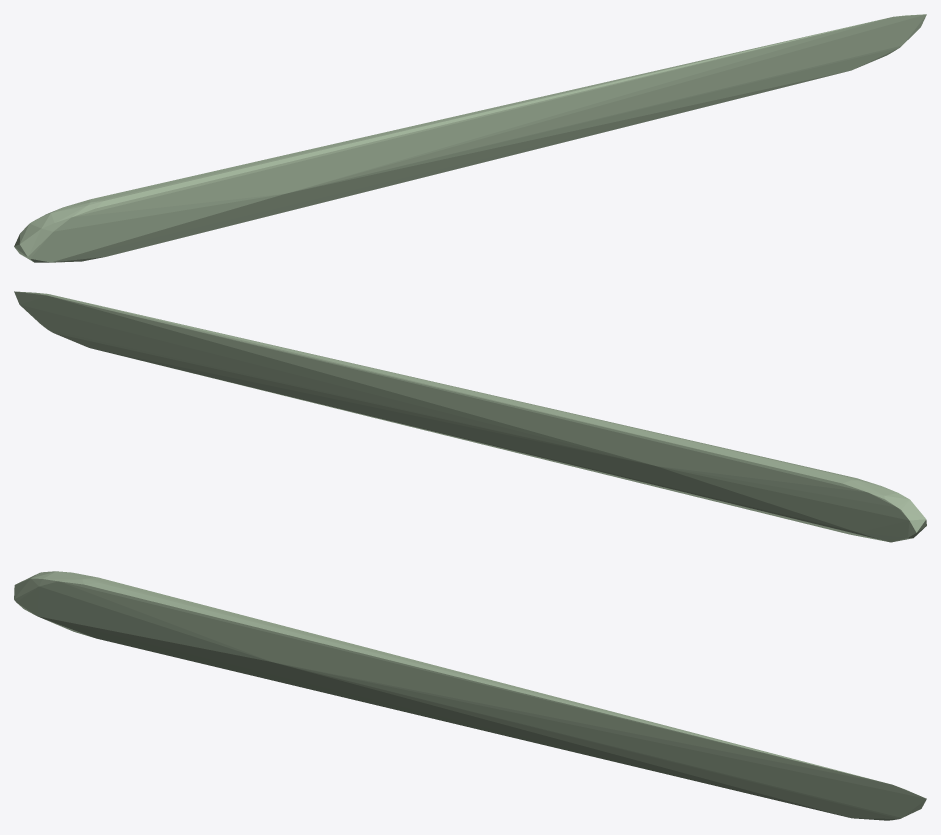
The model's file is instrument_knife_a01.glb.
3 views of the same model, one above another, from view 1: azimuth 30°, elevation 25°; view 2: azimuth 150°, elevation 25°; view 3: azimuth 330°, elevation 25° (orthographic).
Visible parts, largest first — view 1: geometry_0; view 2: geometry_0; view 3: geometry_0.
Boxes of the visible parts, bbox=[...] form: geometry_0: bbox=[14, 14, 926, 262]; geometry_0: bbox=[14, 291, 926, 542]; geometry_0: bbox=[14, 571, 926, 820].
Bounding box in the file's own units: 0.4772 × 0.0276 × 0.0117.
